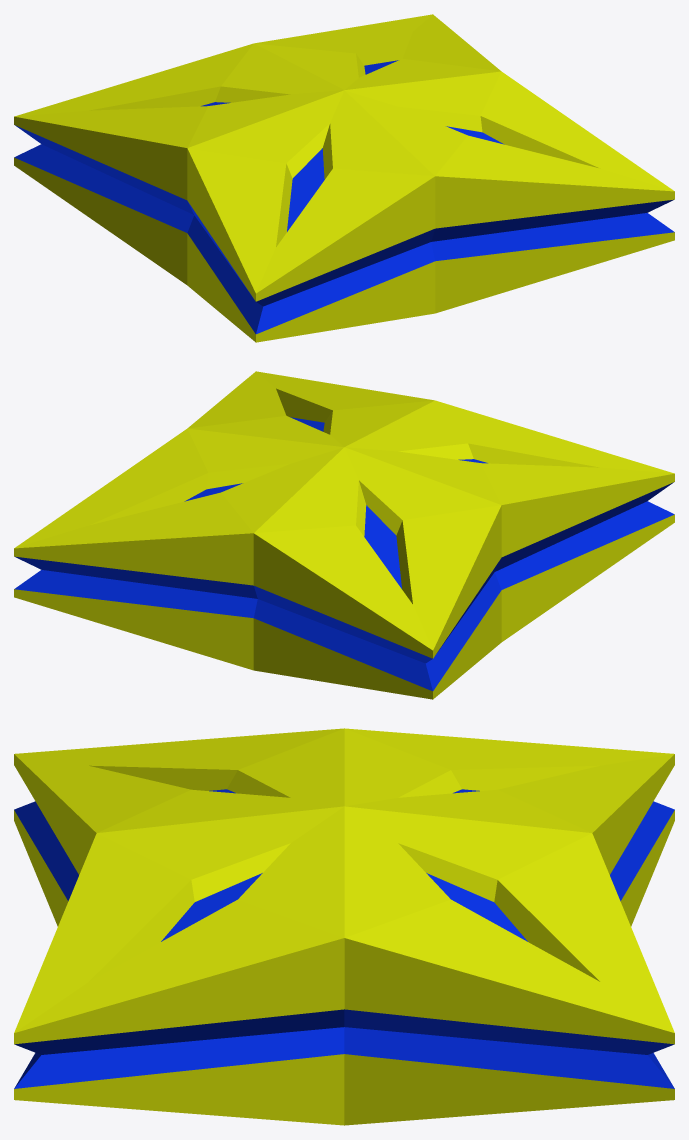
File: HomingMine.fbx
3 renders of one model, top to bottom at view 1: azimuth 30°, elevation 25°; view 2: azimuth 150°, elevation 25°; view 3: azimuth 270°, elevation 25°, orthographic. The views are drawn at different scales.
Visible parts, largest first — view 1: Cube; view 2: Cube; view 3: Cube.
Part boxes in pixels (x1,y1,x2,y2): Cube: (14,14,674,342); Cube: (14,371,674,699); Cube: (14,728,674,1125).
Size of the model in its own units: 200 by 80.54 by 200.
